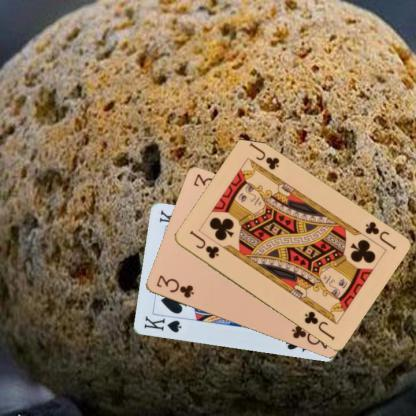3c: (153, 273, 195, 300)
Jc: (362, 218, 398, 252), (186, 228, 220, 260)
Ks: (141, 314, 183, 334)
